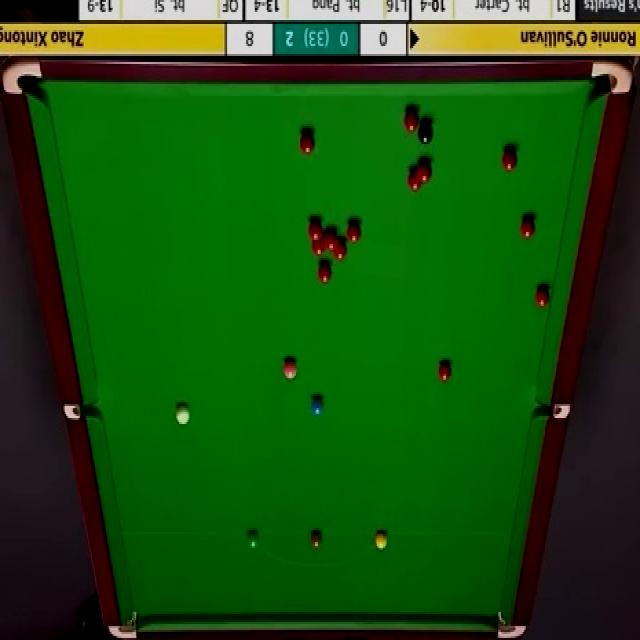black-ball: (417, 117, 433, 144)
blue-ball: (310, 395, 324, 418)
brown-ball: (310, 530, 322, 552)
green-ball: (247, 529, 260, 548)
pink-ball: (283, 359, 297, 380)
red-ball: (298, 128, 316, 155), (501, 146, 519, 173), (535, 282, 552, 308), (520, 215, 536, 242), (406, 168, 421, 194), (404, 107, 419, 133), (416, 160, 432, 184), (347, 218, 362, 242), (318, 260, 332, 284), (334, 238, 348, 262), (438, 362, 452, 383), (309, 219, 322, 240), (312, 235, 325, 255), (325, 232, 338, 251)
white-ball: (176, 403, 191, 429)
yellow-ball: (375, 529, 388, 550)
